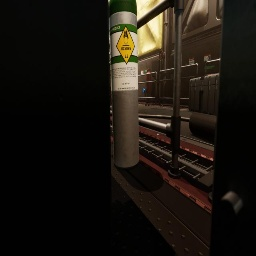0: (109, 0, 139, 169)
NitrogenTank ,: (146, 69, 151, 103)
